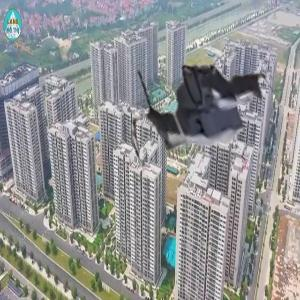drone: (123, 33, 289, 199)
